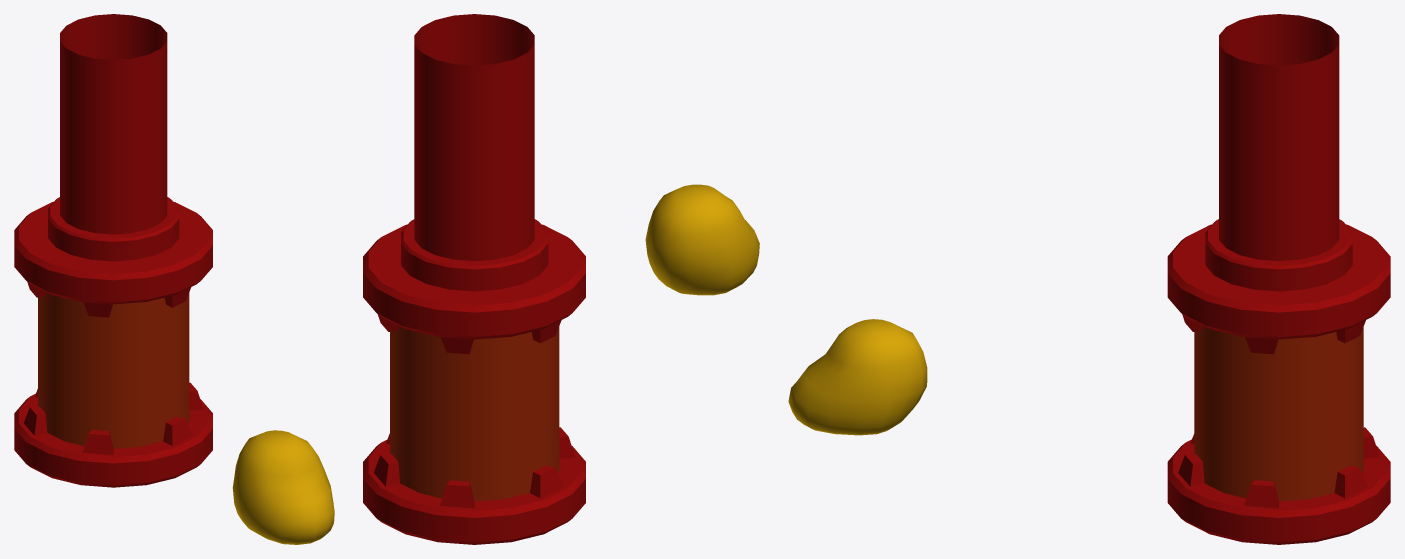
Rendered from Container002.fbx.
3 views of the same model, side by side, from view 1: azimuth 30°, elevation 25°; view 2: azimuth 150°, elevation 25°; view 3: azimuth 270°, elevation 25° (orthographic). The views are drawn at different scales.
Visible parts, largest first — view 1: Cylinder007, SlimeContainerGlass001, Sphere001; view 2: Cylinder007, SlimeContainerGlass001, Sphere001; view 3: Cylinder007, SlimeContainerGlass001, Sphere001.
Boxes of the visible parts, x1=… form: Cylinder007: x1=14, y1=14, x2=212, y2=487; SlimeContainerGlass001: x1=38, y1=292, x2=189, y2=448; Sphere001: x1=232, y1=430, x2=334, y2=544; Cylinder007: x1=363, y1=14, x2=585, y2=544; SlimeContainerGlass001: x1=390, y1=326, x2=559, y2=501; Sphere001: x1=645, y1=184, x2=759, y2=295; Cylinder007: x1=1167, y1=14, x2=1390, y2=544; SlimeContainerGlass001: x1=1194, y1=326, x2=1363, y2=501; Sphere001: x1=788, y1=319, x2=927, y2=435.
Size of the model in its own units: 41.96 by 94 by 112.
